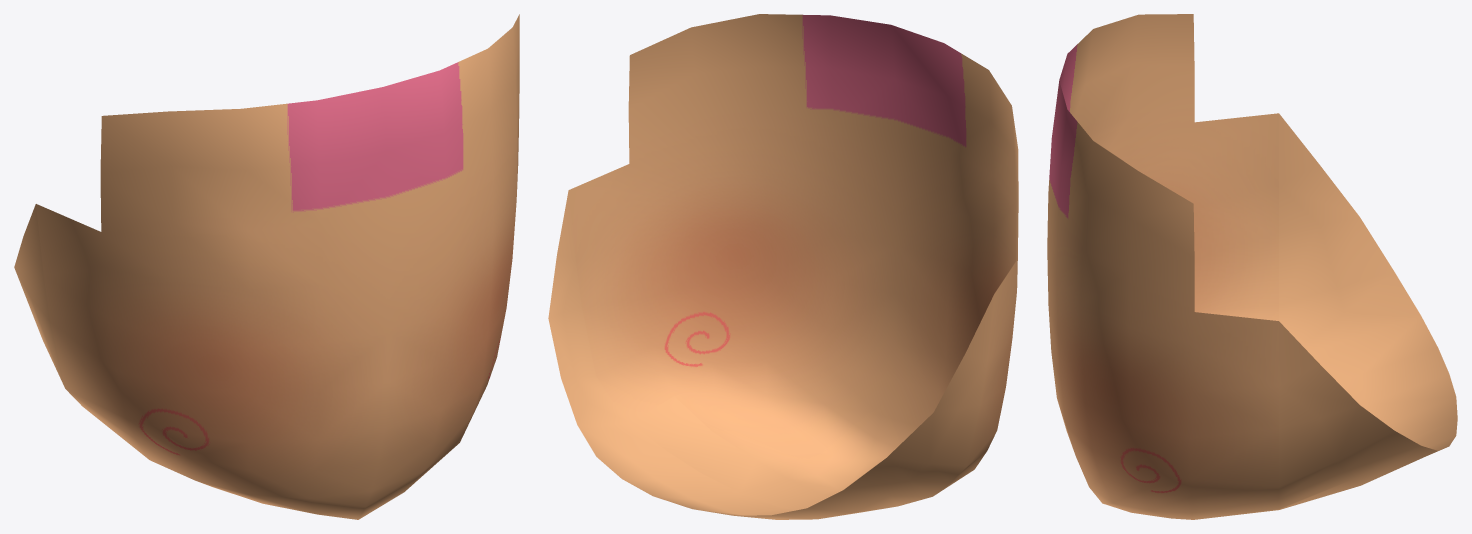
The model's file is Faceline_4.glb.
3 renders of one model, left to right at view 1: azimuth 30°, elevation 25°; view 2: azimuth 150°, elevation 25°; view 3: azimuth 270°, elevation 25°, orthographic. The views are drawn at different scales.
Parts seen in each view (by area): view 1: Head04; view 2: Head04; view 3: Head04.
Boxes of the visible parts, x1,y1,x2,y2 form: Head04: (14,14,519,519); Head04: (548,14,1018,519); Head04: (1047,14,1457,519).
Bounding box in the file's own units: 52.6 × 50.14 × 43.89.
1 material, 1 textured.
